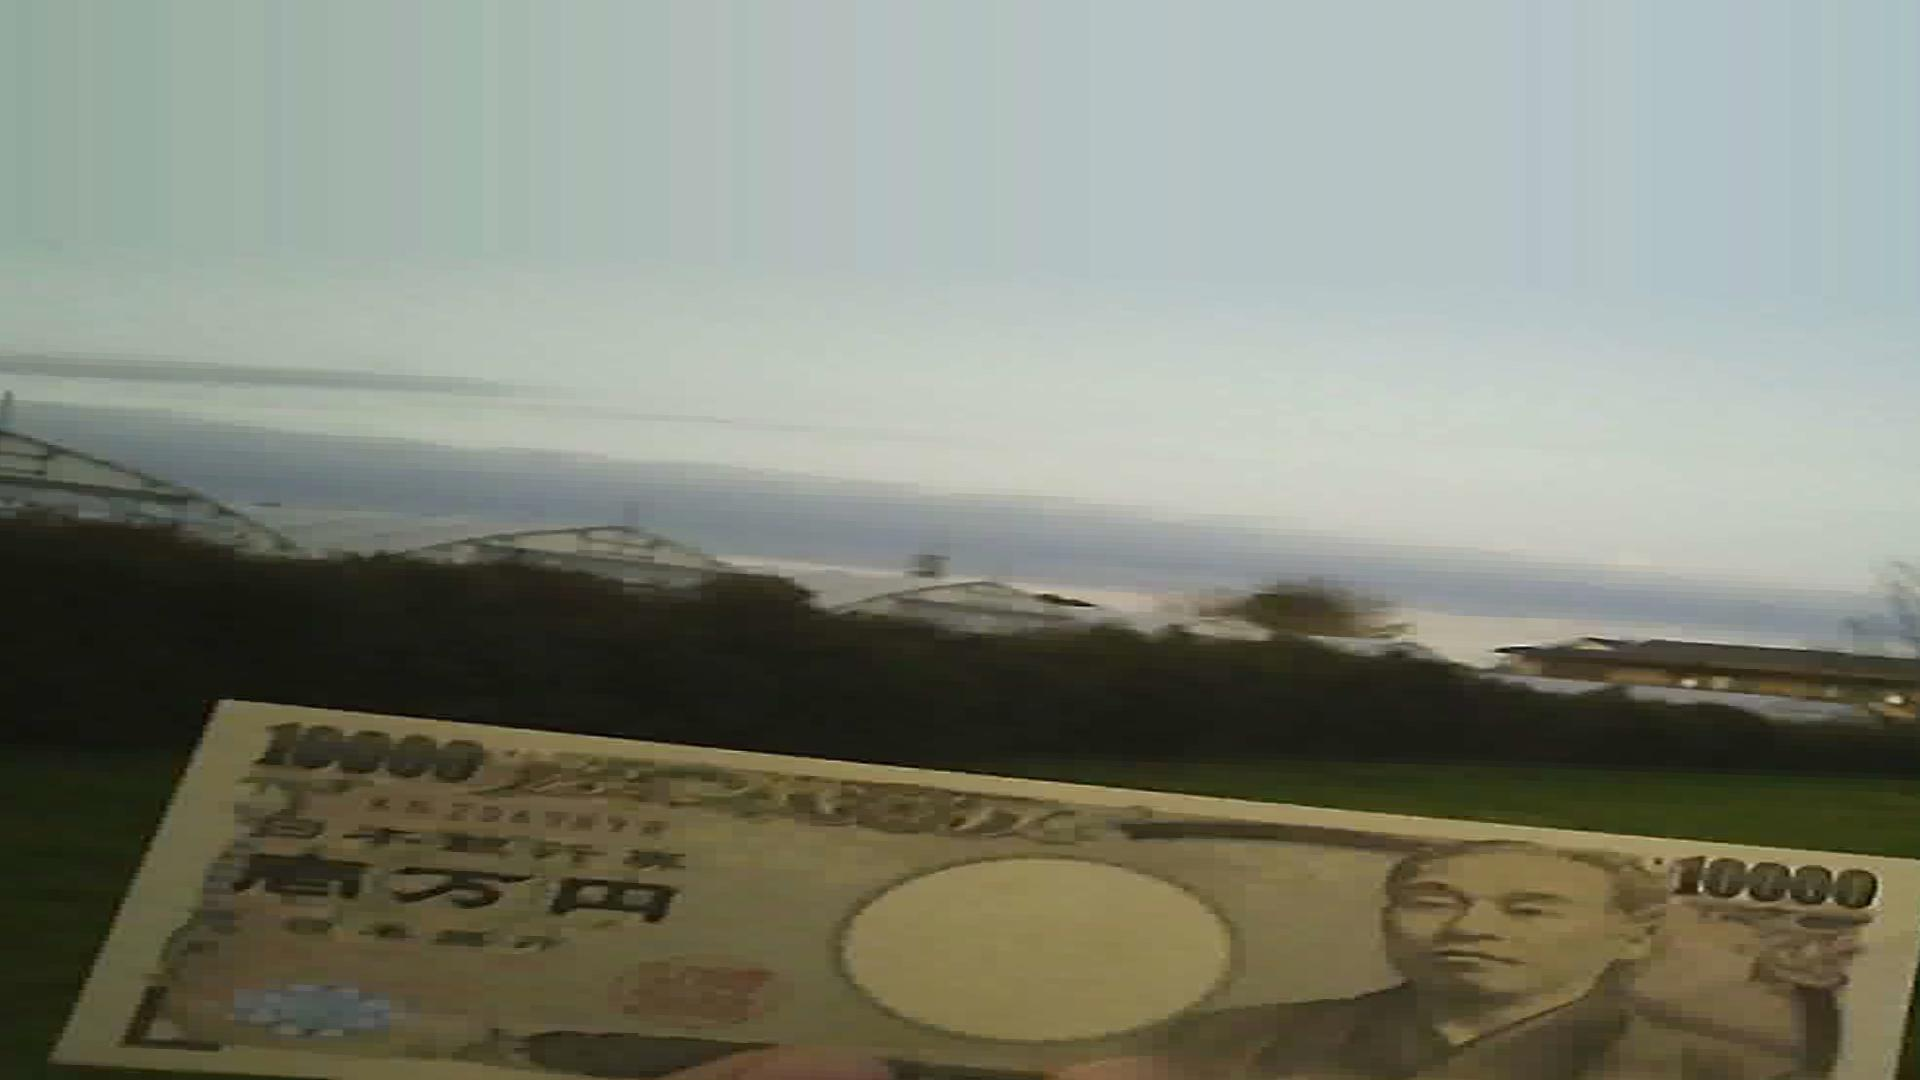10,000 Yen: (34, 665, 1909, 1075)
